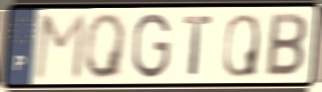B: (263, 11, 310, 80)
G: (130, 11, 173, 81)
M: (32, 11, 89, 82)
Q: (83, 11, 130, 81), (221, 11, 261, 80)
T: (181, 14, 216, 78)
